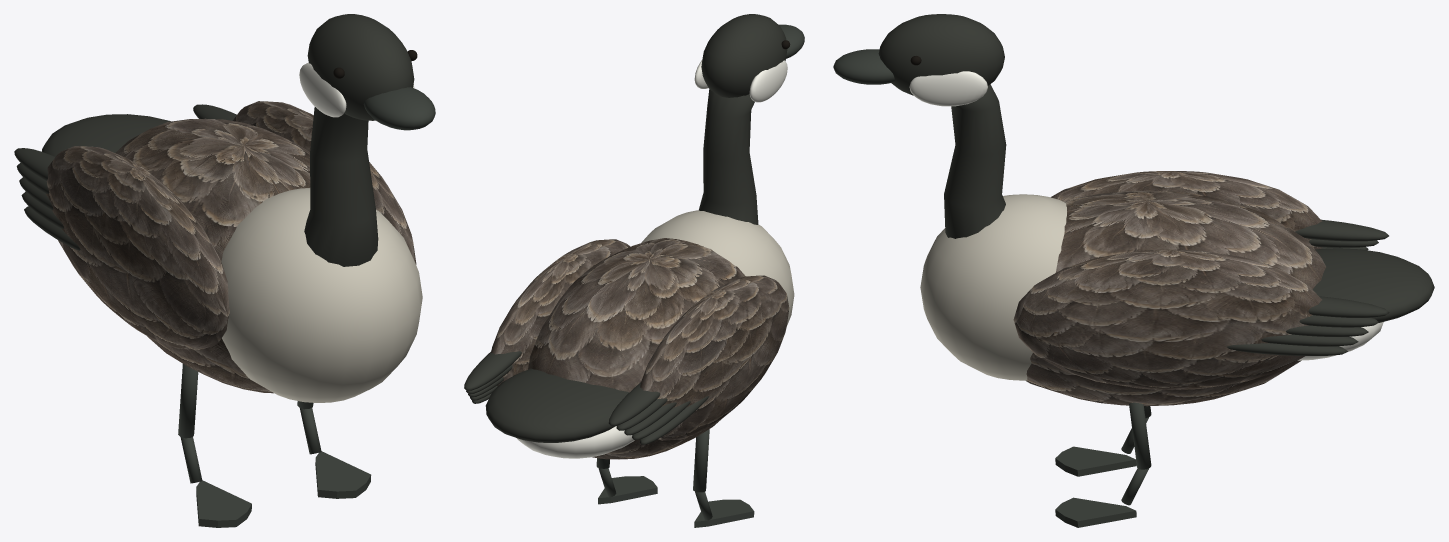
File: canada-goose.glb
3 views of the same model, side by side, from view 1: azimuth 30°, elevation 25°; view 2: azimuth 150°, elevation 25°; view 3: azimuth 270°, elevation 25° (orthographic). The views are drawn at different scales.
Parts seen in each view (by area): view 1: Body, Wing_L, Neck, Wing_R, Leg_L, Leg_R; view 2: Body, Wing_L, Neck, Wing_R, Leg_L, Leg_R; view 3: Body, Wing_R, Neck, Wing_L, Leg_R, Leg_L.
Boxes of the visible parts, x1,y1,x2,y2 form: Body: [42, 114, 422, 402]; Wing_L: [14, 146, 229, 349]; Neck: [299, 14, 435, 266]; Wing_R: [193, 101, 416, 264]; Leg_L: [178, 364, 251, 527]; Leg_R: [297, 401, 371, 498]; Body: [485, 210, 794, 459]; Wing_L: [608, 275, 789, 444]; Neck: [694, 14, 804, 224]; Wing_R: [464, 239, 630, 403]; Leg_L: [693, 429, 754, 527]; Leg_R: [596, 458, 657, 504]; Body: [920, 190, 1434, 406]; Wing_R: [1013, 249, 1389, 389]; Neck: [833, 14, 1006, 238]; Wing_L: [1051, 171, 1388, 250]; Leg_R: [1055, 402, 1151, 527]; Leg_L: [1055, 406, 1151, 476].
Size of the model in its own units: 0.408 by 0.863 by 0.994.
6 materials, 1 textured.
